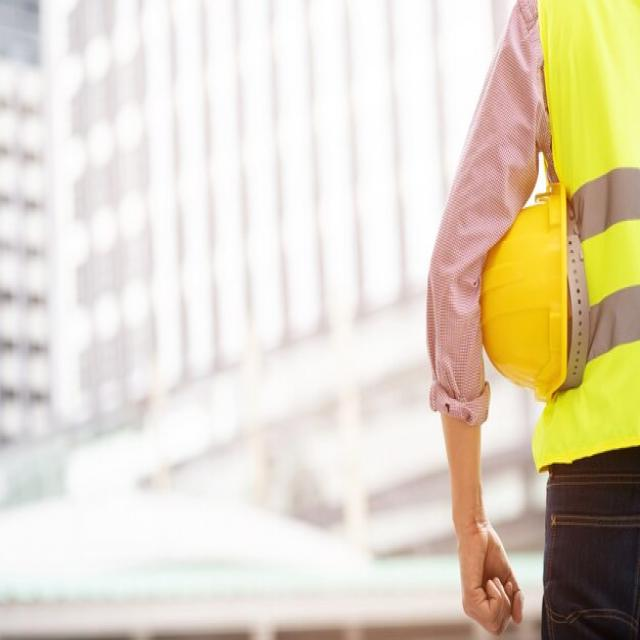Reflective-Jacket: (489, 3, 638, 474)
Safety-Helmet: (475, 173, 595, 420)
